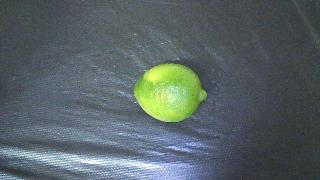LOCAL: (134, 63, 207, 122)
